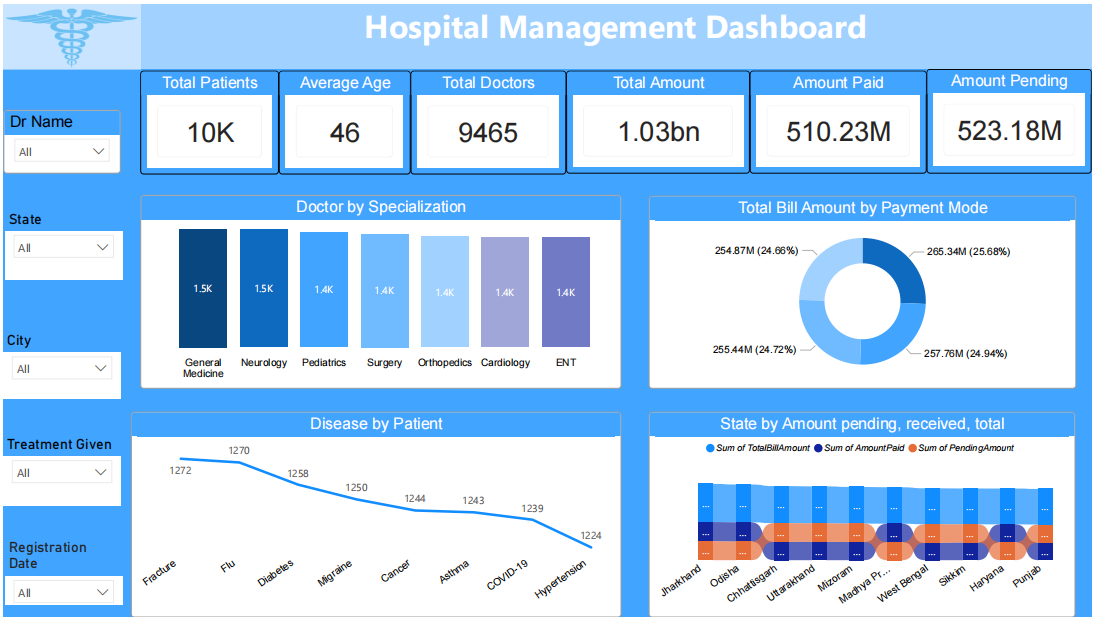

This screenshot's page, from the dashboard's own definition file:
{"tool":"powerbi","page":{"name":"Hospital Management Dashboard","canvas":[1280,720],"ordinal":0},"visuals":[{"type":"cardVisual","title":"Total Patients","fields":{"Data":["CountNonNull(Hospital_Management.PatientID)"]},"box":[160.7,77.9,163.8,122.5],"z":0},{"type":"cardVisual","title":"Average Age","fields":{"Data":["Avg(Hospital_Management.Age)"]},"box":[324.5,77.9,154.3,122.5],"z":1000},{"type":"cardVisual","title":"Total Doctors","fields":{"Data":["Count(Hospital_Management.DoctorName)"]},"box":[478.8,77.9,182.9,122.5],"z":2000},{"type":"cardVisual","title":"Total Amount","fields":{"Data":["Sum(Hospital_Management.TotalBillAmount)"]},"box":[661.7,77.9,216.3,120.9],"z":3000},{"type":"cardVisual","title":"Amount Paid","fields":{"Data":["Sum(Hospital_Management.AmountPaid)"]},"box":[878,77.9,208.4,120.9],"z":4000},{"type":"cardVisual","title":"Amount Pending","fields":{"Data":["Sum(Hospital_Management.PendingAmount)"]},"box":[1086.4,76.3,194.1,122.5],"z":5000},{"type":"columnChart","title":"Doctor by Specialization","fields":{"Category":["Hospital_Management.Specialization"],"Y":["Count(Hospital_Management.DoctorName)"],"Series":["Hospital_Management.Specialization"]},"box":[160.7,224.3,566.3,227.5],"z":6000},{"type":"donutChart","title":"Total Bill Amount by Payment Mode","fields":{"Category":["Hospital_Management.PaymentMode"],"Y":["Sum(Hospital_Management.TotalBillAmount)"]},"box":[759.5,224.8,502.3,226.8],"z":7000},{"type":"lineChart","title":"Disease by Patient","fields":{"Category":["Hospital_Management.Disease"],"Y":["Count(Hospital_Management.PatientID)"]},"box":[149.5,478.8,577.4,241.8],"z":8000},{"type":"ribbonChart","title":"State by Amount pending, received, total","fields":{"Category":["Hospital_Management.State"],"Y":["Sum(Hospital_Management.TotalBillAmount)","Sum(Hospital_Management.AmountPaid)","Sum(Hospital_Management.PendingAmount)"]},"box":[758.7,478.8,502.6,241.8],"z":9000},{"type":"slicer","title":"Dr Name","fields":{"Values":["Hospital_Management.DoctorName"]},"box":[0,124.1,138.4,74.8],"z":10000},{"type":"slicer","title":"State","fields":{"Values":["Hospital_Management.State"]},"box":[1.6,241.8,138.4,82.7],"z":11000},{"type":"slicer","title":"City","fields":{"Values":["Hospital_Management.City"]},"box":[0,384.9,138.4,79.5],"z":12000},{"type":"slicer","title":"Treatment Given","fields":{"Values":["Hospital_Management.TreatmentGiven"]},"box":[0,507.4,138.4,81.1],"z":13000},{"type":"slicer","title":"Registration Date","fields":{"Values":["Hospital_Management.RegistrationDate"]},"box":[1.6,628.3,138.4,77.9],"z":14000},{"type":"textbox","box":[160.7,0,1119.8,76.3],"z":15000},{"type":"image","box":[0,0,160.7,76.3],"z":16000}]}

Visuals, with their boxes in screenshot pixels (x1, y1, x2, y2), scaled from the page's 1280x720 canvas onto the 1099x623 screenshot:
"Total Patients" cardVisual: BBox(138, 67, 279, 173)
"Average Age" cardVisual: BBox(279, 67, 411, 173)
"Total Doctors" cardVisual: BBox(411, 67, 568, 173)
"Total Amount" cardVisual: BBox(568, 67, 754, 172)
"Amount Paid" cardVisual: BBox(754, 67, 933, 172)
"Amount Pending" cardVisual: BBox(933, 66, 1098, 172)
"Doctor by Specialization" columnChart: BBox(138, 194, 624, 391)
"Total Bill Amount by Payment Mode" donutChart: BBox(652, 195, 1083, 391)
"Disease by Patient" lineChart: BBox(128, 414, 624, 622)
"State by Amount pending, received, total" ribbonChart: BBox(651, 414, 1083, 622)
"Dr Name" slicer: BBox(0, 107, 119, 172)
"State" slicer: BBox(1, 209, 120, 281)
"City" slicer: BBox(0, 333, 119, 402)
"Treatment Given" slicer: BBox(0, 439, 119, 509)
"Registration Date" slicer: BBox(1, 544, 120, 611)
textbox: BBox(138, 0, 1098, 66)
image: BBox(0, 0, 138, 66)
